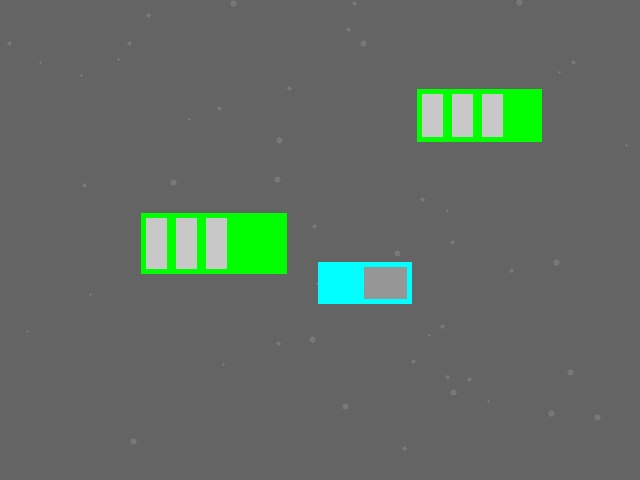bus: (141, 213, 286, 273), (417, 89, 541, 141)
truck: (318, 262, 411, 303)
